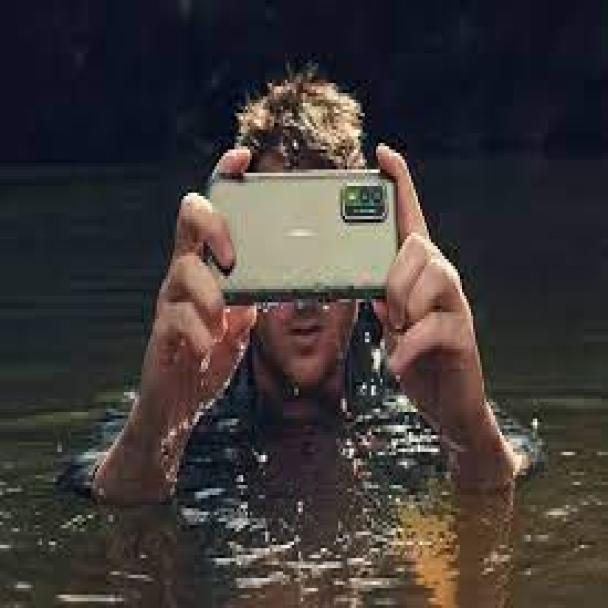Handphone: (208, 167, 398, 302)
